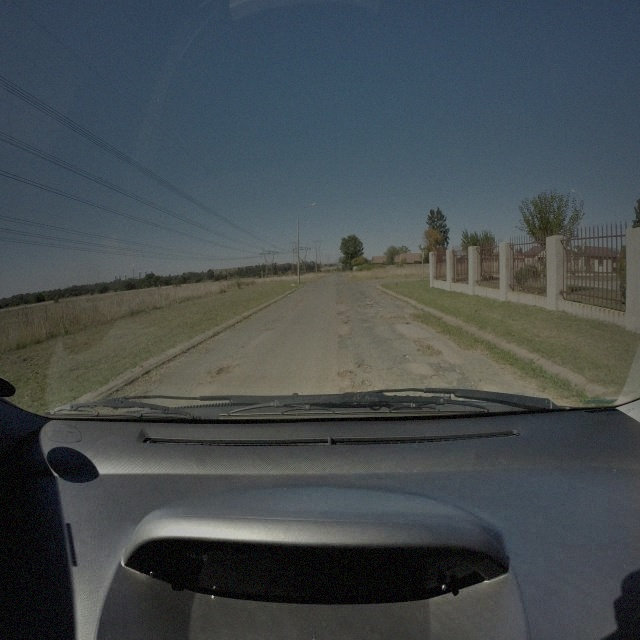pothole: (414, 336, 442, 357), (339, 381, 376, 394), (216, 362, 238, 378), (335, 366, 353, 377), (358, 361, 372, 371), (384, 315, 407, 321), (338, 308, 350, 317), (370, 294, 378, 304), (440, 362, 450, 369), (403, 352, 411, 360), (432, 376, 438, 379)
